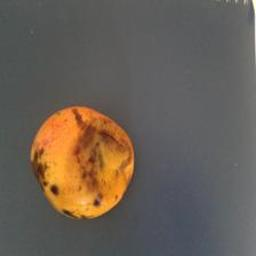Mango Rotten: (16, 103, 151, 221)
